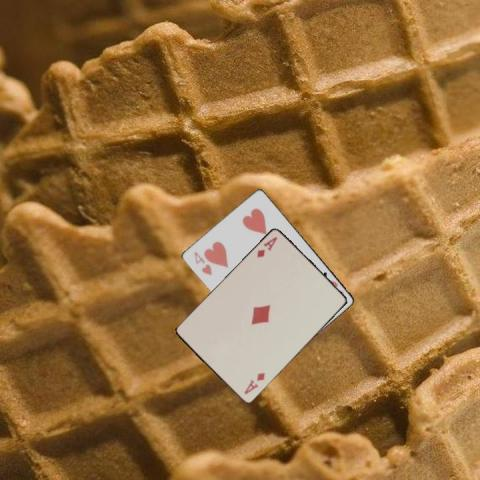4h: (191, 248, 213, 276)
Ad: (241, 369, 267, 396), (254, 234, 279, 259)
